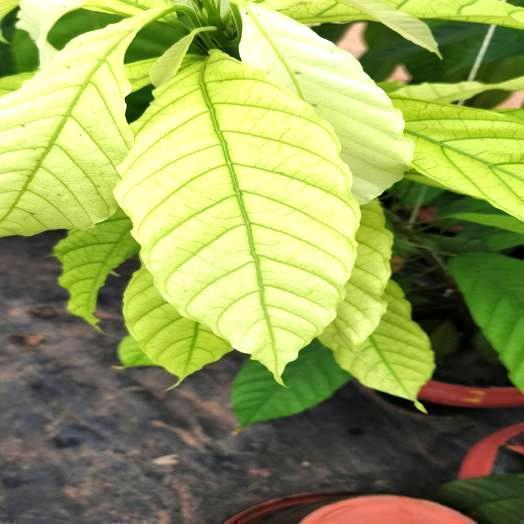Iron: (115, 51, 359, 380), (0, 11, 160, 235)
